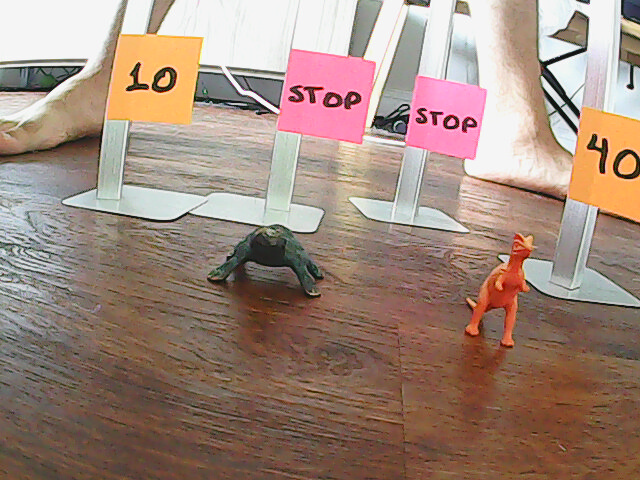10: (112, 40, 191, 117)
40: (579, 122, 639, 198)
dinosaur: (456, 223, 539, 358)
stop: (285, 59, 366, 128), (412, 90, 478, 140)
turtle: (201, 222, 330, 309)
